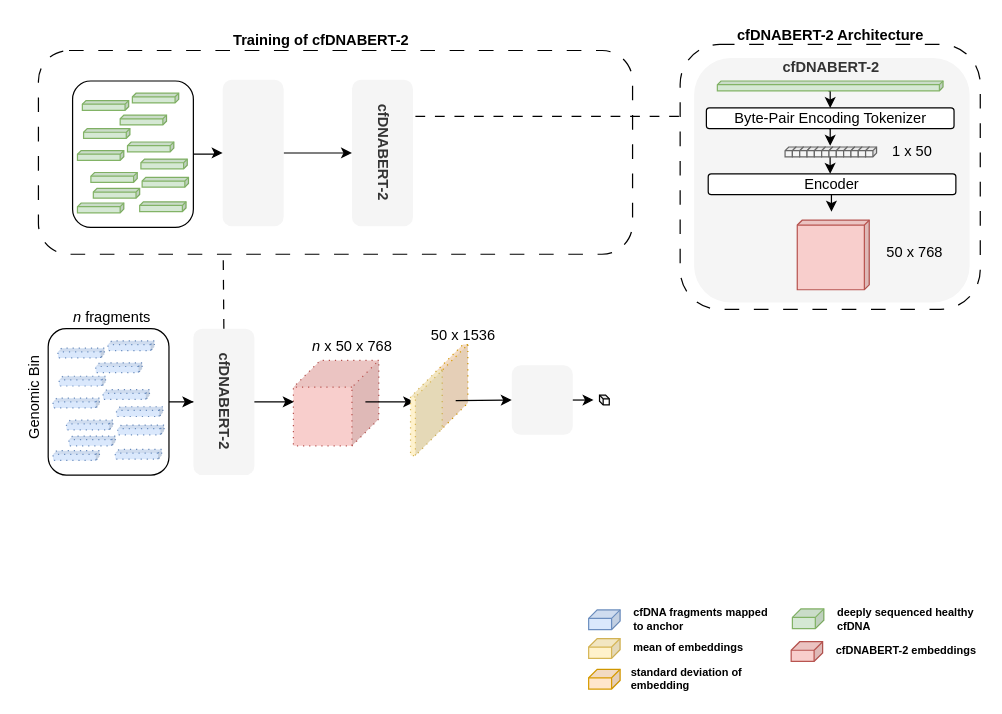
The diagram is 1002 pixels wide and 714 high, and some of its shapes have lost their labels. Here are the shapes that lost their labels. From the top down, the centre of each, then its label:
At pixel 252 152: "DNABERT-2".
At pixel 541 399: "CNN".
